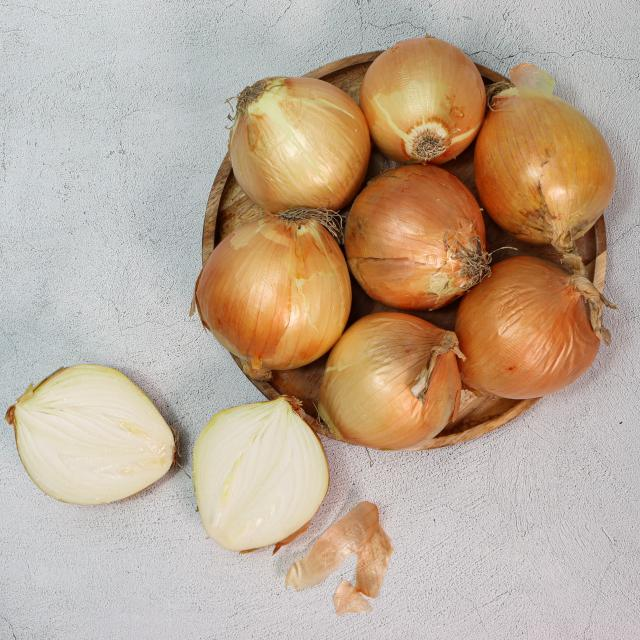onion: (12, 32, 614, 558), (199, 38, 613, 455), (12, 363, 180, 507)
